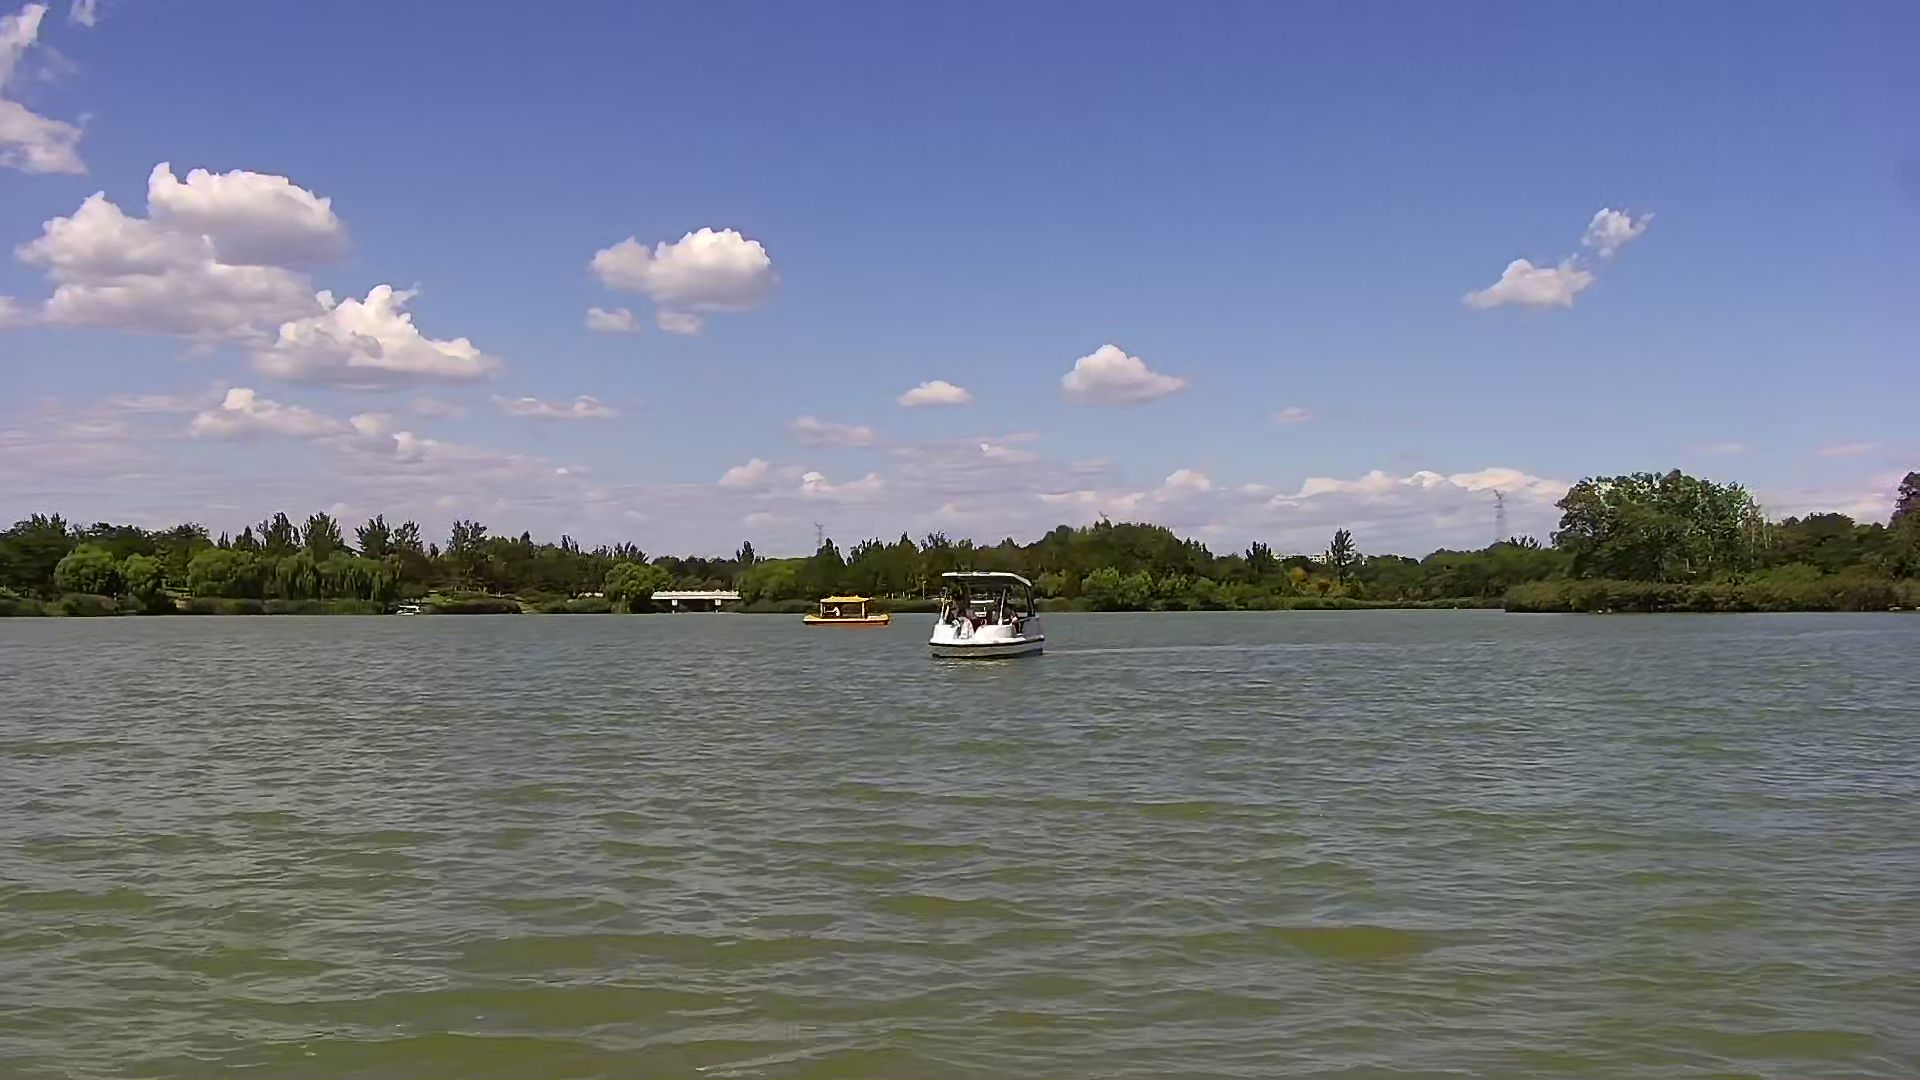boat: (930, 568, 1047, 669), (803, 593, 884, 626)
bridge: (655, 587, 736, 615)
